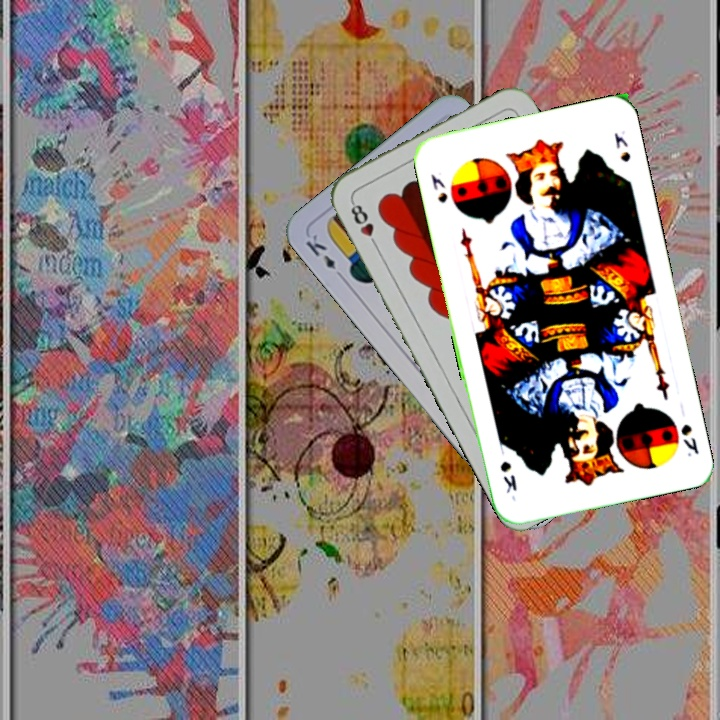EK: (301, 230, 347, 283)
H8: (346, 197, 381, 251)
SK: (677, 420, 702, 460), (427, 170, 450, 206)
